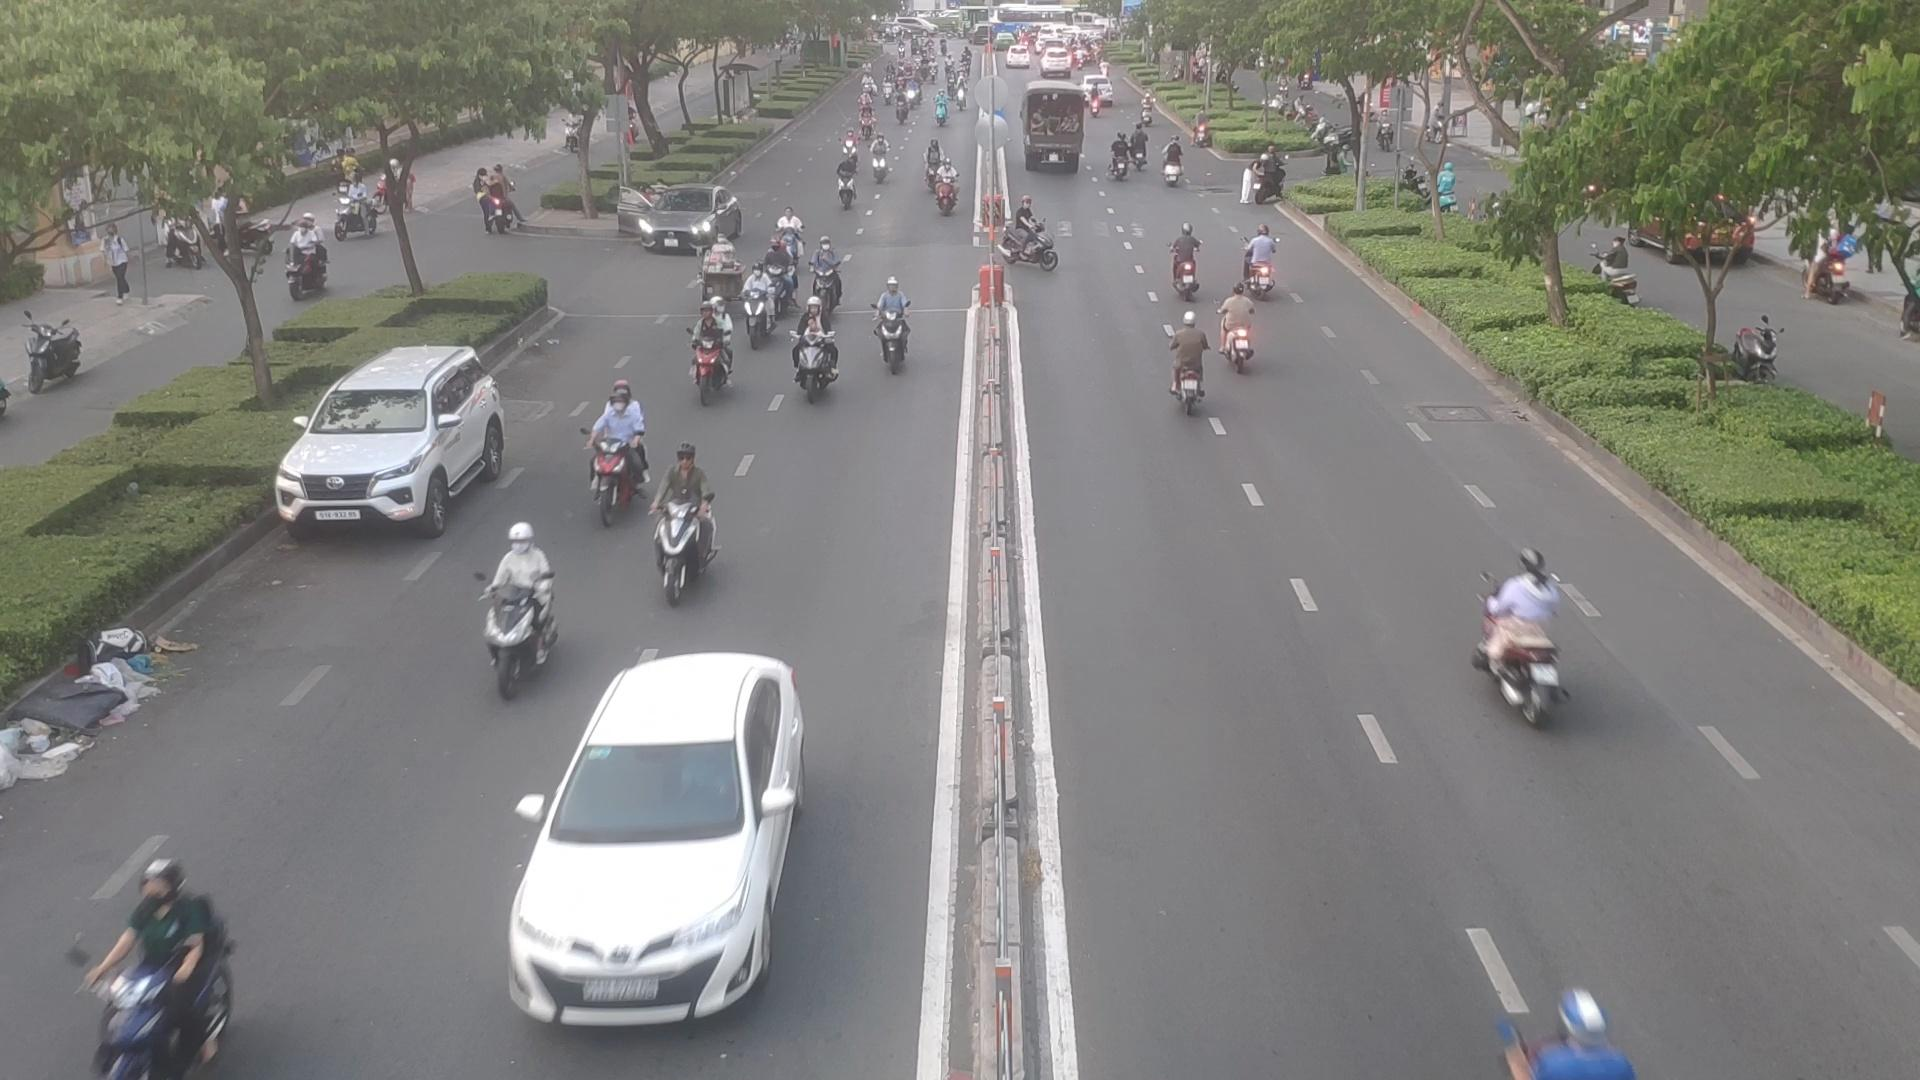car: (500, 661, 806, 1027), (273, 347, 512, 534), (617, 187, 735, 255)
motorbike: (87, 861, 227, 1080), (1473, 527, 1567, 709), (481, 570, 559, 696), (584, 380, 644, 520), (657, 451, 713, 593), (688, 290, 737, 400), (1164, 311, 1216, 414), (1004, 196, 1058, 273), (874, 276, 913, 375), (736, 258, 777, 342), (1167, 214, 1203, 301), (791, 344, 841, 404), (1221, 284, 1255, 367), (1247, 225, 1280, 306), (811, 236, 843, 319), (770, 200, 807, 269), (829, 146, 861, 214), (1247, 144, 1283, 199), (939, 150, 960, 219), (1160, 131, 1183, 190), (1113, 136, 1134, 181)
